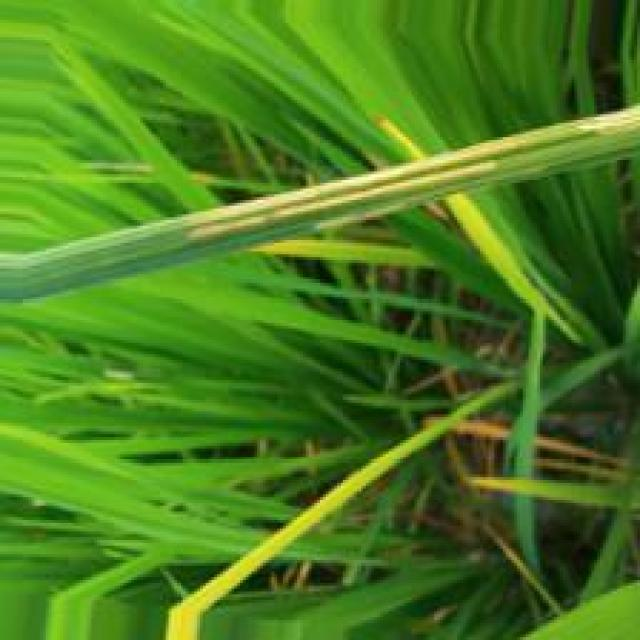Rice_Hispa: (182, 127, 553, 241), (565, 101, 640, 139)
